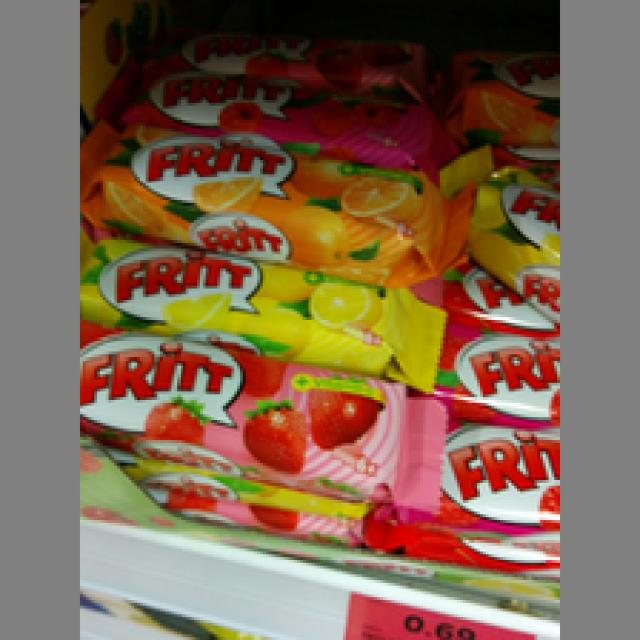groceries: (77, 317, 446, 506), (83, 226, 457, 383), (83, 120, 463, 274)
